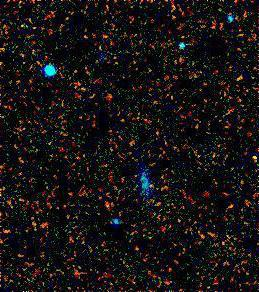star: (91, 78, 121, 108)
